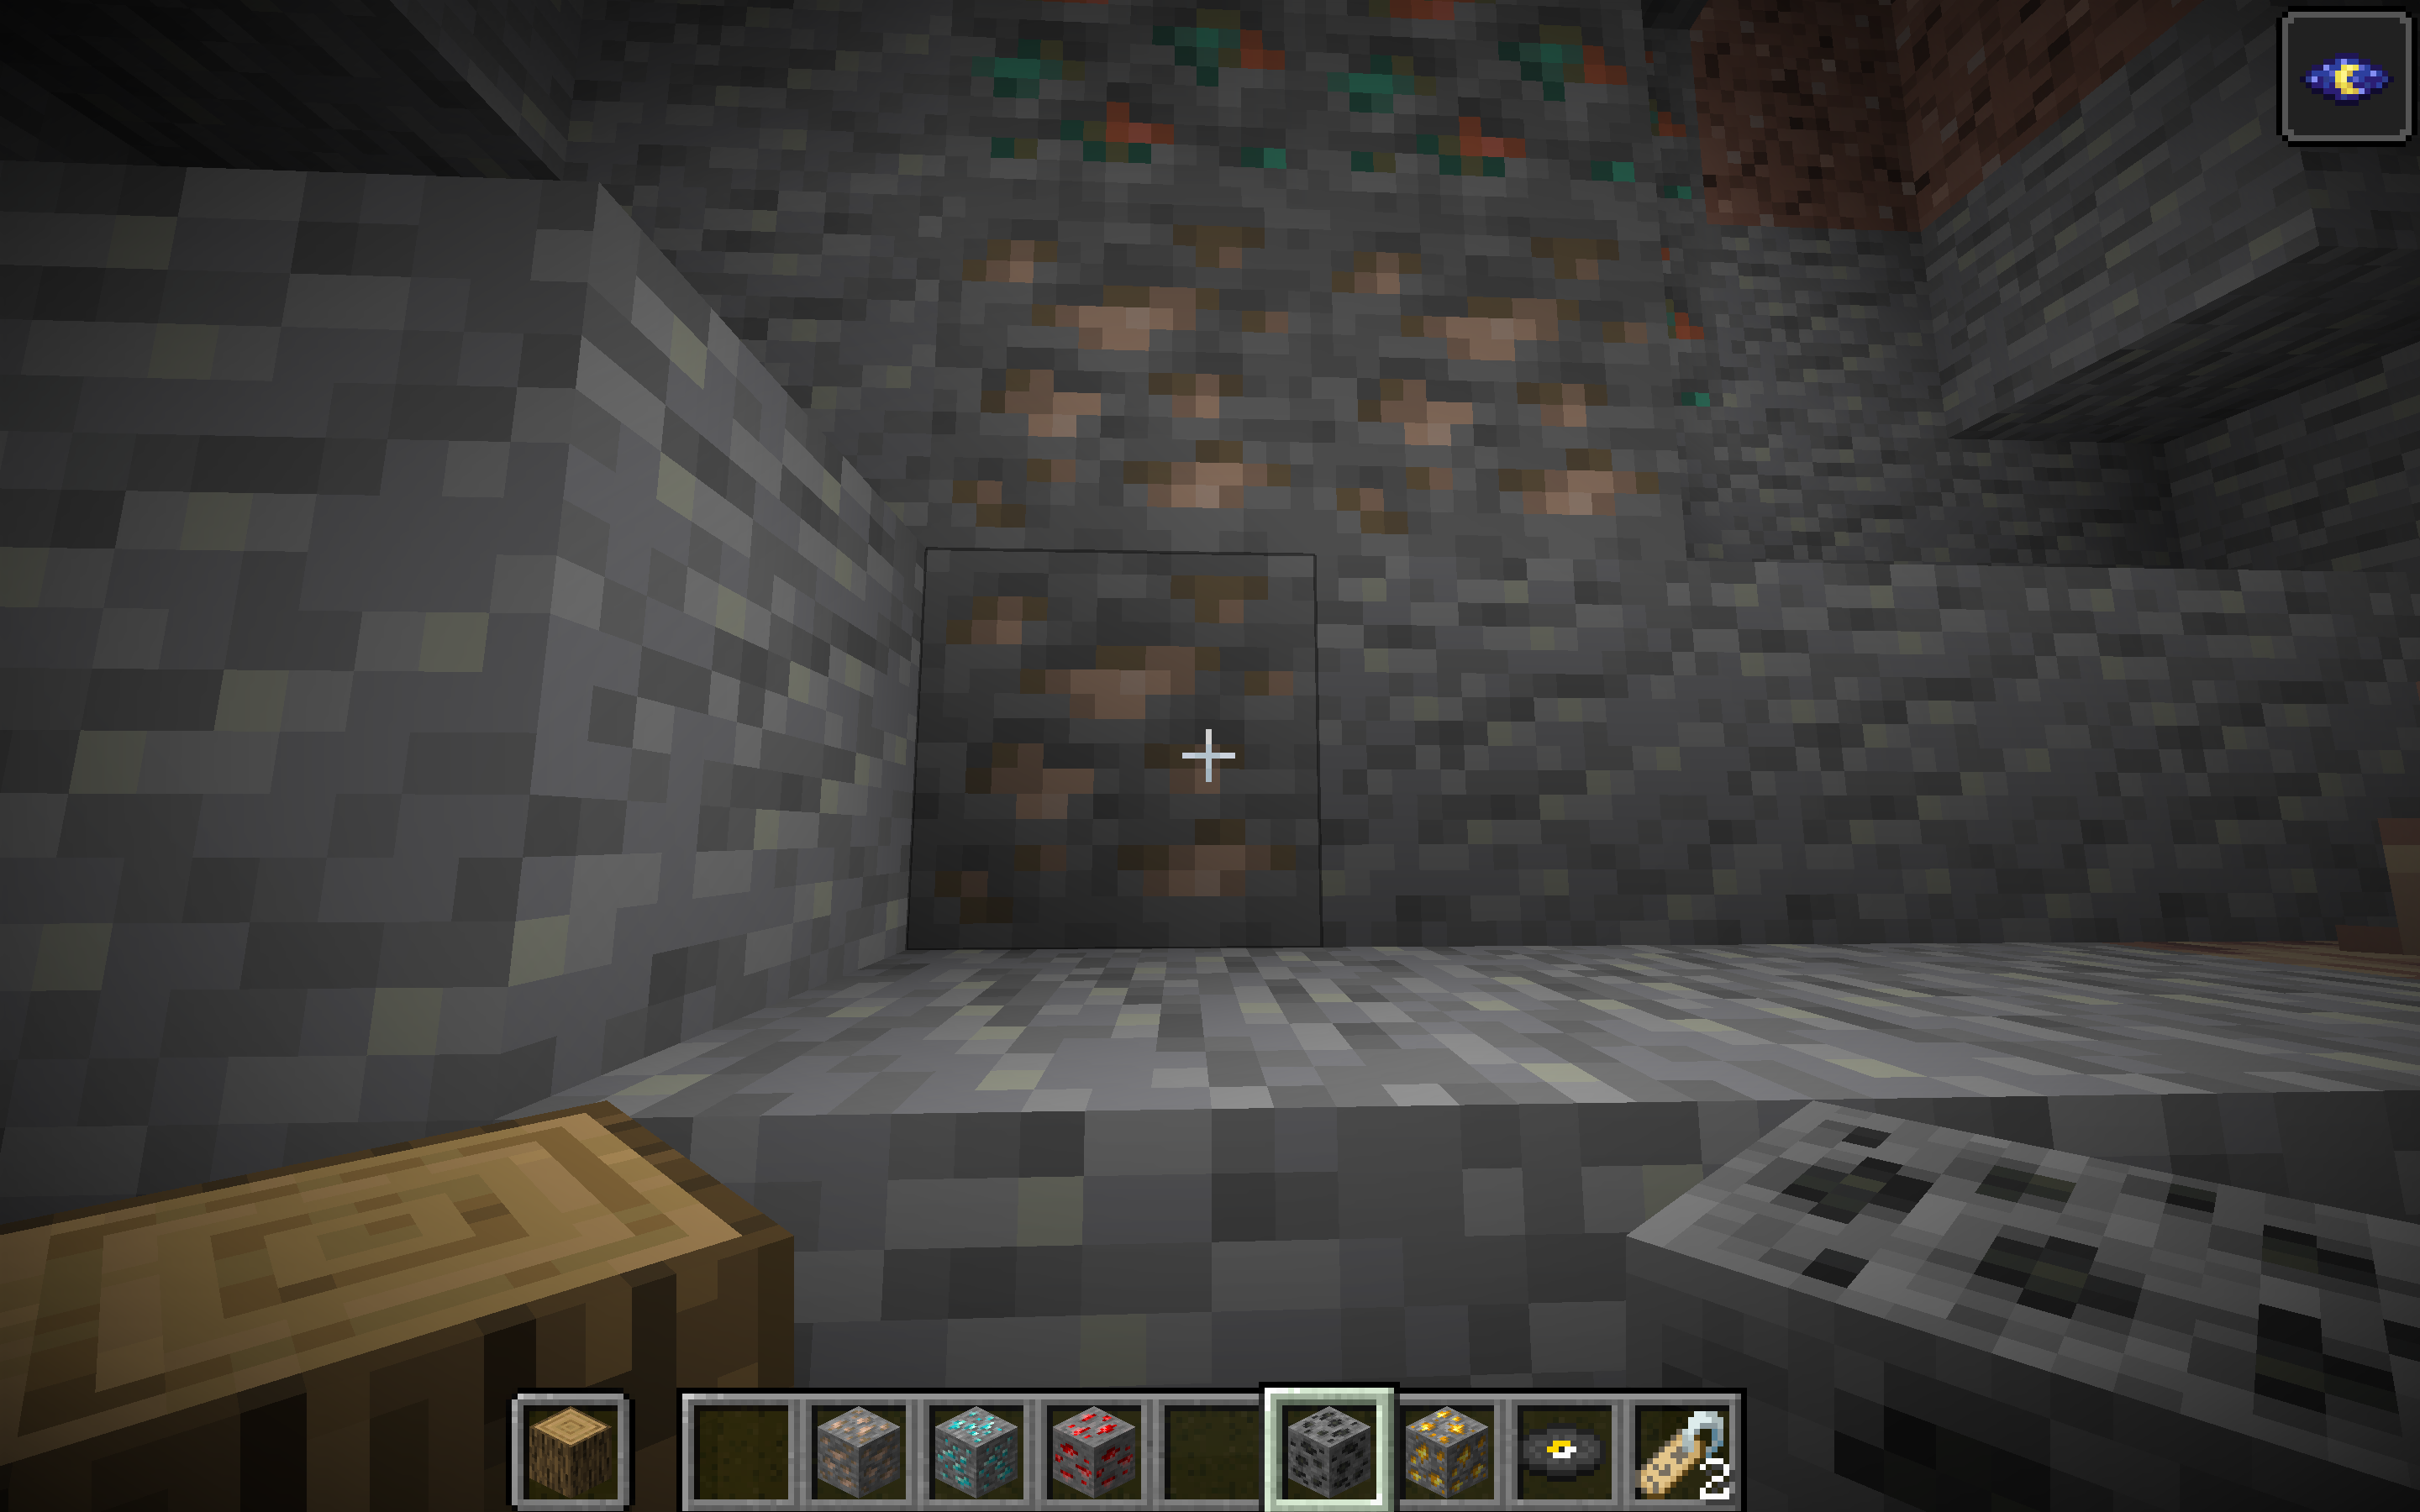iron: (312, 54, 2143, 1096)
